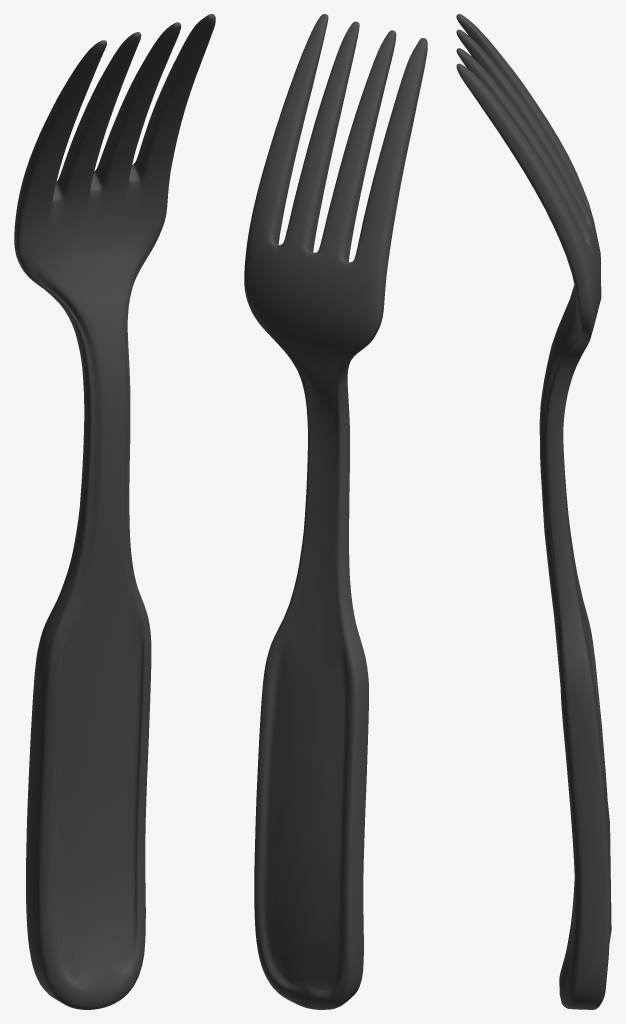
The model's file is fork.obj.
The picture shows the model from 3 angles, left to right: view 1: azimuth 30°, elevation 25°; view 2: azimuth 150°, elevation 25°; view 3: azimuth 270°, elevation 25°; orthographic projection. The views are drawn at different scales.
Visible parts, largest first — view 1: fork; view 2: fork; view 3: fork.
Boxes of the visible parts, left/top/right/bottom form: fork: left=14, top=14, right=215, bottom=1009; fork: left=244, top=14, right=427, bottom=1009; fork: left=456, top=14, right=611, bottom=1009.
Size of the model in its own units: 0.0295 by 0.1928 by 0.0281.
1 material, 1 textured.
